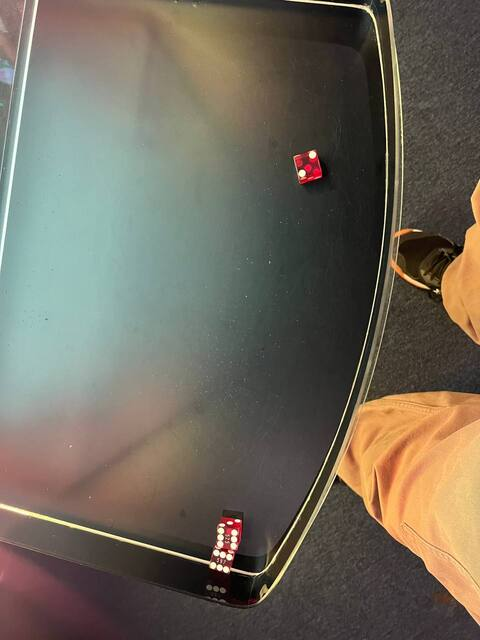six: (213, 523, 244, 552), (205, 547, 237, 575)
two: (290, 148, 327, 183)
